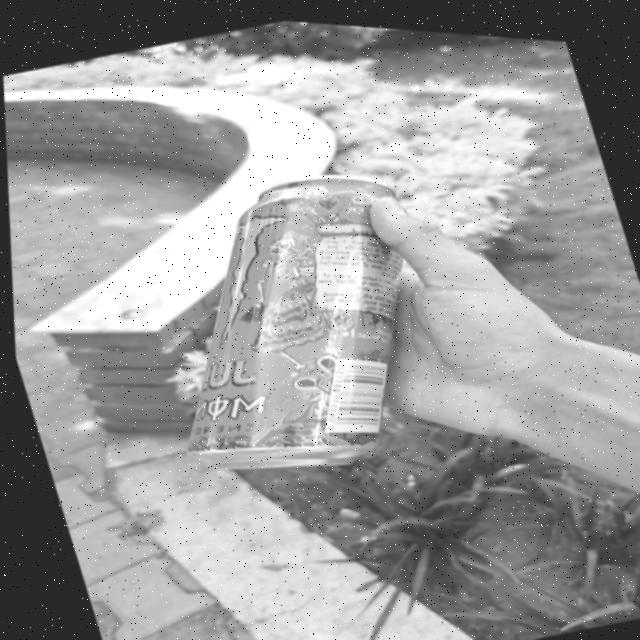Monster Mango Loco: (112, 138, 463, 507)
